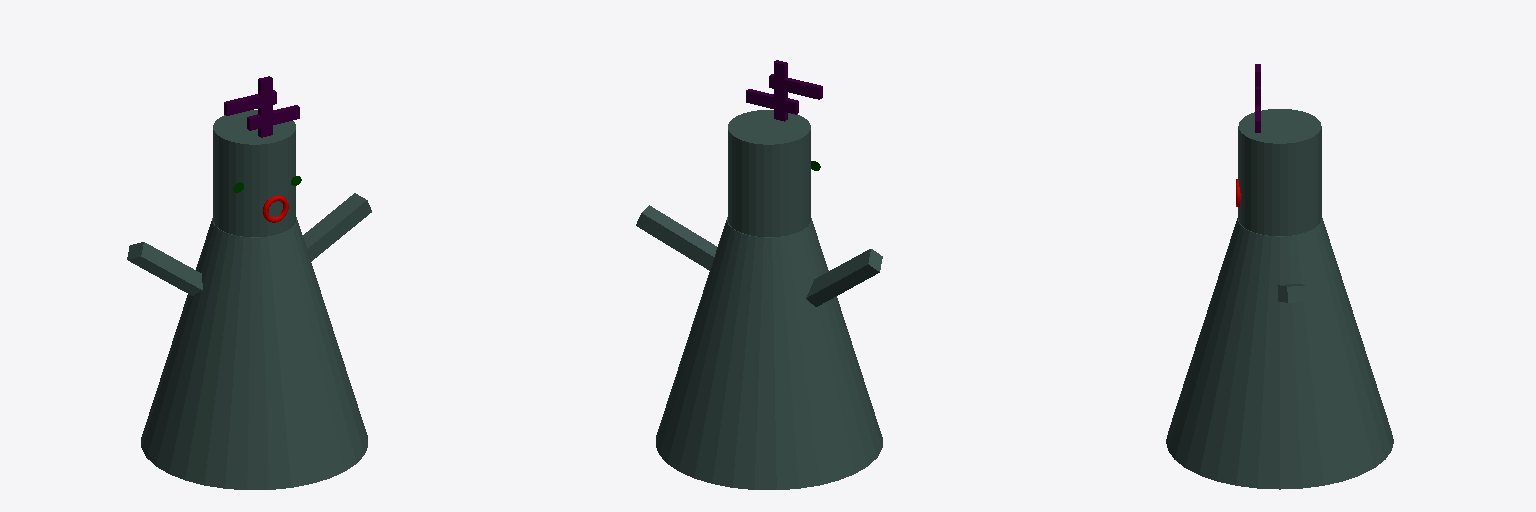
The model's file is robot.obj.
3 renders of one model, left to right at view 1: azimuth 30°, elevation 25°; view 2: azimuth 150°, elevation 25°; view 3: azimuth 270°, elevation 25°, orthographic.
Visible parts, largest first — view 1: Cone, Cylinder_Cylinder.001, Cube_Cube.001, Cube.001_Cube.002, Cube.004_Cube.005, Cube.003_Cube.004, Cube.002_Cube.003; view 2: Cone, Cylinder_Cylinder.001, Cube_Cube.001, Cube.001_Cube.002, Cube.002_Cube.003, Cube.004_Cube.005, Cube.003_Cube.004; view 3: Cone, Cylinder_Cylinder.001, Cube_Cube.001.
Boxes of the visible parts, <box> form: Cone: <box>141,217,367,489</box>; Cylinder_Cylinder.001: <box>213,110,295,236</box>; Cube_Cube.001: <box>303,193,371,261</box>; Cube.001_Cube.002: <box>127,242,202,295</box>; Cube.004_Cube.005: <box>224,90,276,115</box>; Cube.003_Cube.004: <box>247,105,299,130</box>; Cube.002_Cube.003: <box>258,76,272,137</box>; Cone: <box>656,217,882,489</box>; Cylinder_Cylinder.001: <box>728,110,810,236</box>; Cube_Cube.001: <box>636,205,716,270</box>; Cube.001_Cube.002: <box>806,249,882,306</box>; Cube.002_Cube.003: <box>774,60,787,121</box>; Cube.004_Cube.005: <box>769,74,822,99</box>; Cube.003_Cube.004: <box>746,89,798,114</box>; Cone: <box>1166,218,1393,489</box>; Cylinder_Cylinder.001: <box>1238,109,1321,235</box>; Cube_Cube.001: <box>1277,284,1308,302</box>.
Bounding box in the file's own units: 3.34 × 4.93 × 2.74.